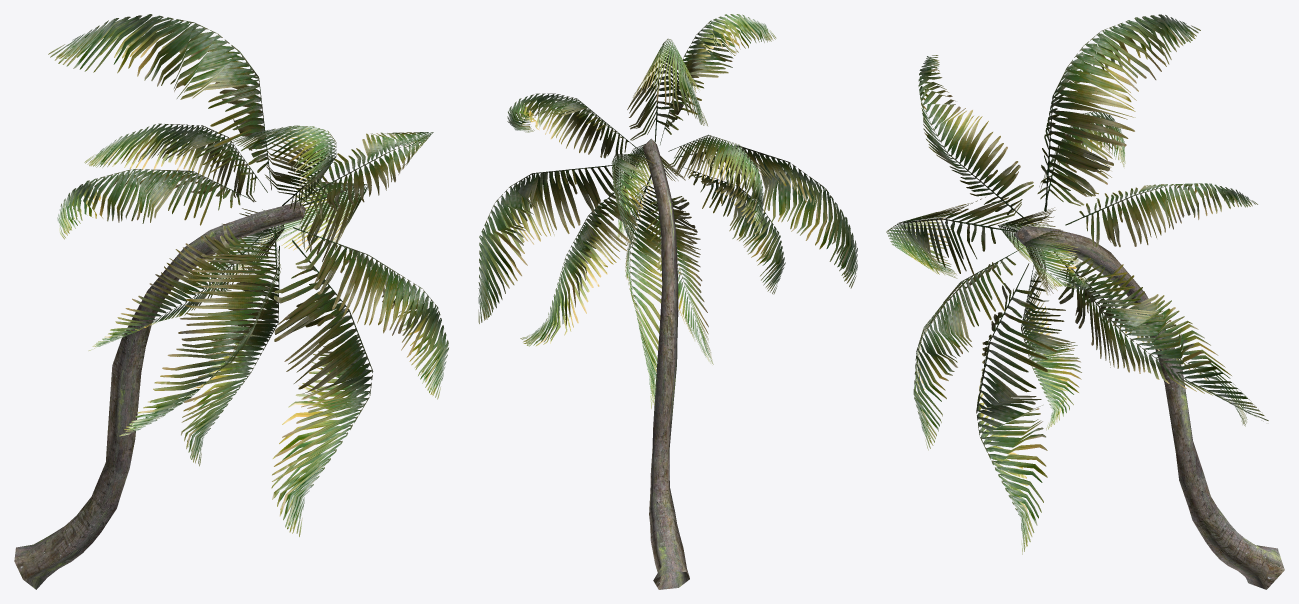
File: Palm_Desktop_LOD2.fbx
3 views of the same model, side by side, from view 1: azimuth 30°, elevation 25°; view 2: azimuth 150°, elevation 25°; view 3: azimuth 270°, elevation 25° (orthographic). The views are drawn at different scales.
Parts seen in each view (by area): view 1: Palm_Desktop_LOD2; view 2: Palm_Desktop_LOD2; view 3: Palm_Desktop_LOD2.
Part boxes in pixels (box(x1,y1,x2,y2)): Palm_Desktop_LOD2: box(14, 14, 448, 589); Palm_Desktop_LOD2: box(478, 14, 857, 589); Palm_Desktop_LOD2: box(886, 14, 1284, 589).
Bounding box in the file's own units: 469 × 731 × 445.
Materials: 2 (2 with a texture image).
